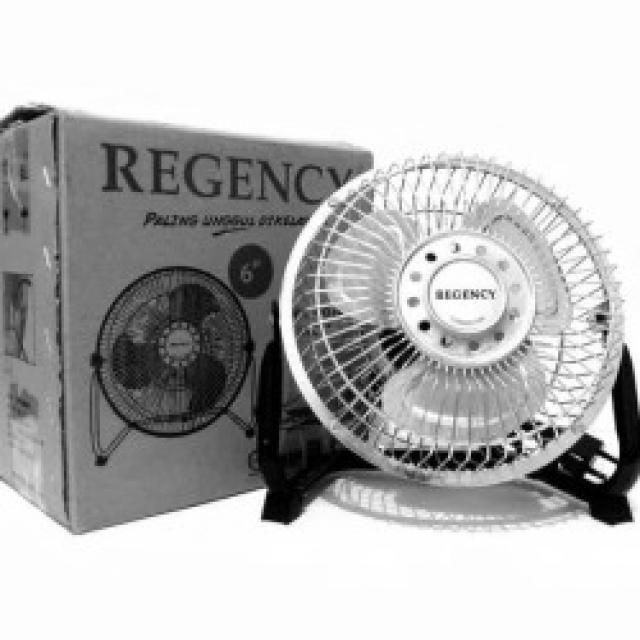fan: (275, 150, 640, 540)
